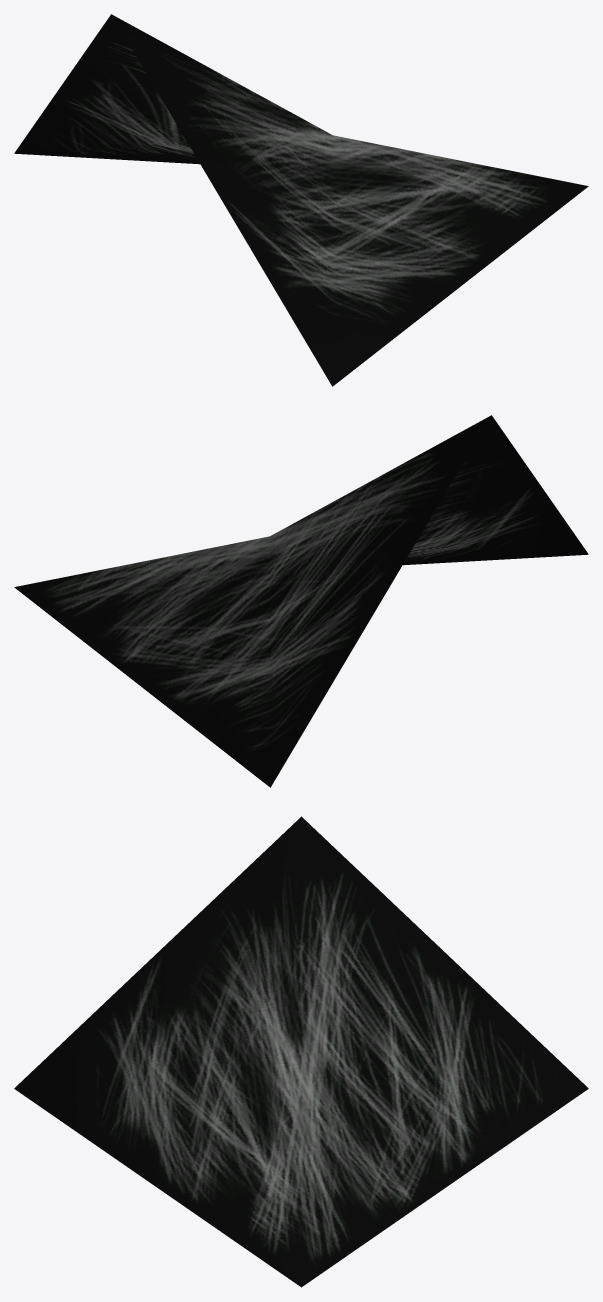
Rendered from EKH_GROTTO_PS_GR_CORNER_WEB__NC01.fbx.
3 renders of one model, top to bottom at view 1: azimuth 30°, elevation 25°; view 2: azimuth 150°, elevation 25°; view 3: azimuth 270°, elevation 25°, orthographic. The views are drawn at different scales.
Parts seen in each view (by area): view 1: EKH_GROTTO_PS_GR_CORNER_WEB__NC01; view 2: EKH_GROTTO_PS_GR_CORNER_WEB__NC01; view 3: EKH_GROTTO_PS_GR_CORNER_WEB__NC01.
Part boxes in pixels (x1,y1,x2,y2): EKH_GROTTO_PS_GR_CORNER_WEB__NC01: (14,14,588,386); EKH_GROTTO_PS_GR_CORNER_WEB__NC01: (14,415,588,787); EKH_GROTTO_PS_GR_CORNER_WEB__NC01: (14,816,588,1287).
Size of the model in its own units: 19200 by 11085 by 22171.
1 material, 1 textured.
